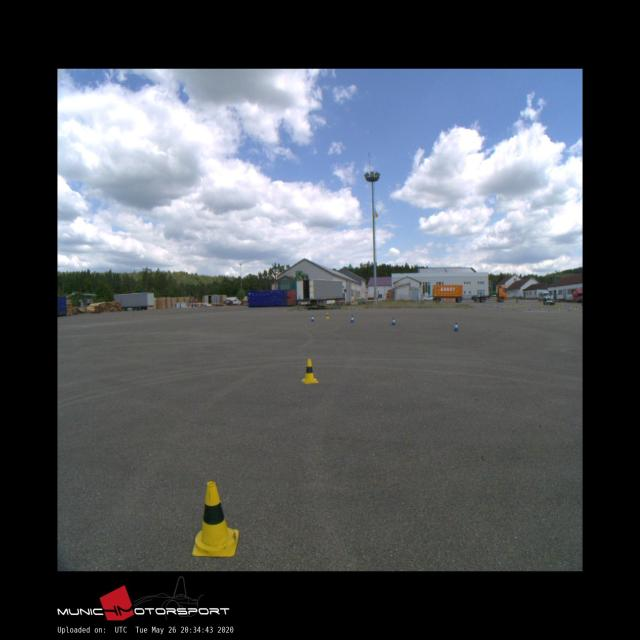blue_cone: (453, 322, 459, 331), (391, 317, 396, 325), (310, 314, 314, 322), (350, 315, 354, 323)
yellow_cone: (192, 482, 238, 556), (301, 358, 317, 383), (326, 312, 330, 318)
